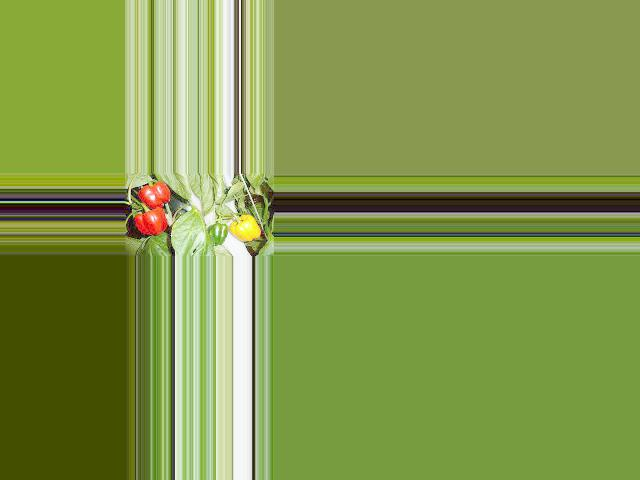bell_pepper: (228, 213, 263, 244)
